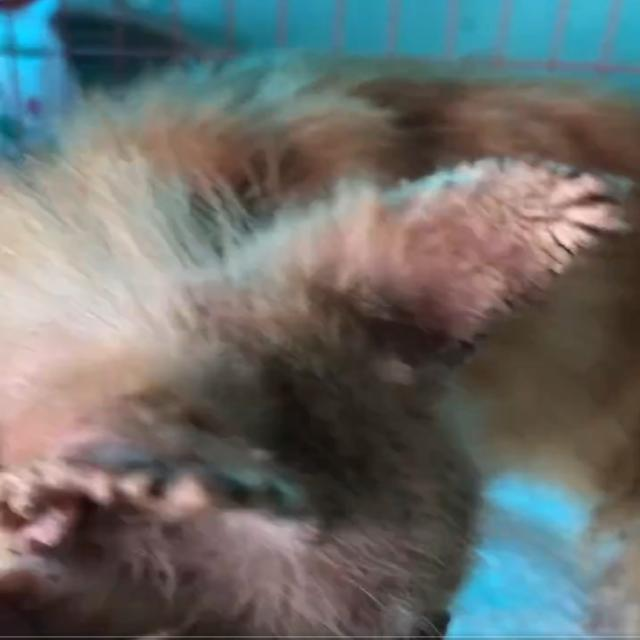cat-scabies: (320, 152, 638, 368), (0, 447, 309, 609)
